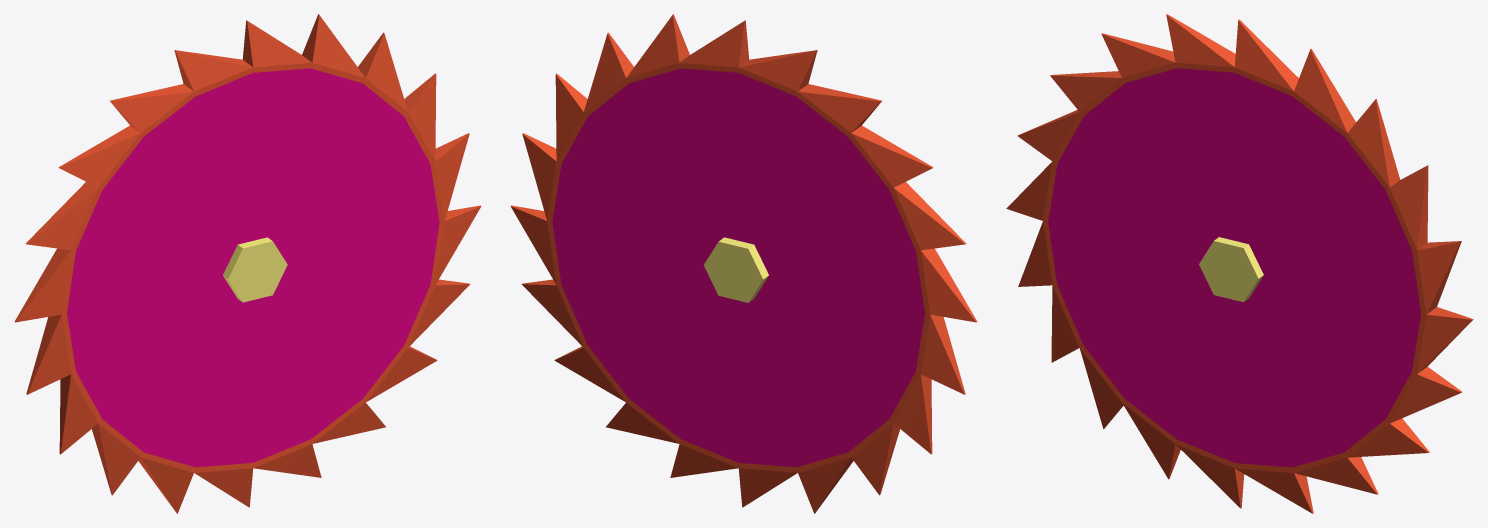
File: Trap_Saw.FBX
The picture shows the model from 3 angles, left to right: view 1: azimuth 30°, elevation 25°; view 2: azimuth 150°, elevation 25°; view 3: azimuth 330°, elevation 25°; orthographic projection.
Visible parts, largest first — view 1: Trap_Saw; view 2: Trap_Saw; view 3: Trap_Saw.
Boxes of the visible parts, bbox=[...] form: Trap_Saw: bbox=[14, 14, 481, 513]; Trap_Saw: bbox=[510, 14, 977, 513]; Trap_Saw: bbox=[1006, 14, 1473, 513].
Bounding box in the file's own units: 152 × 152 × 12.27.
